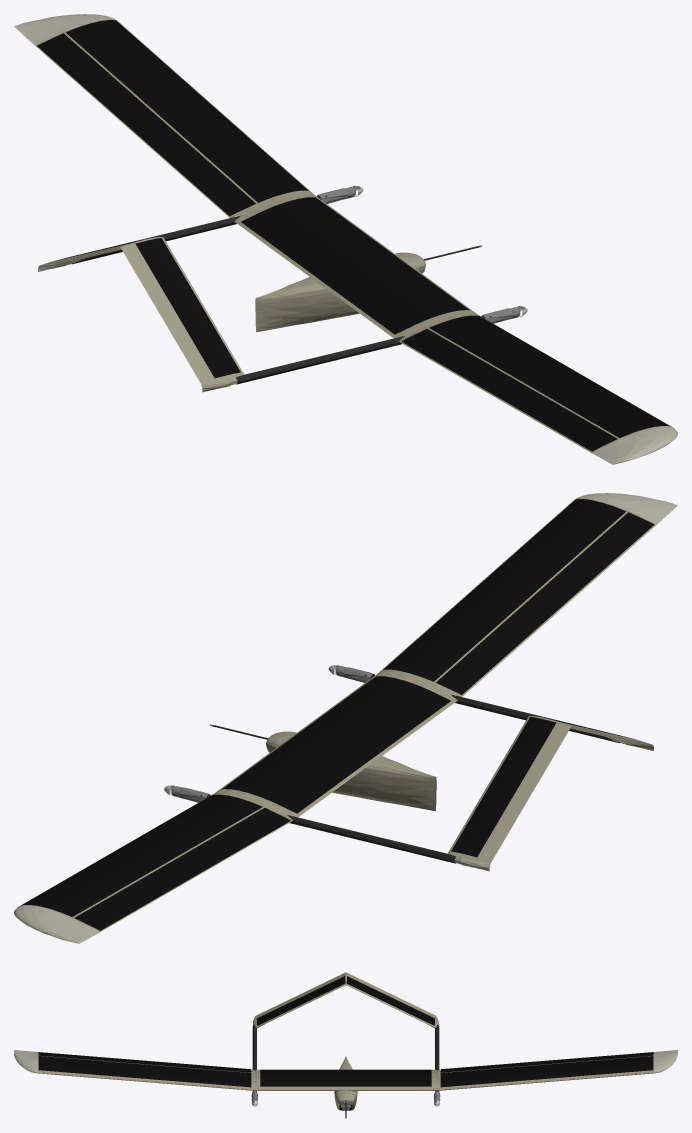
Rendered from senseSoarDummy.dae.
3 renders of one model, top to bottom at view 1: azimuth 30°, elevation 25°; view 2: azimuth 150°, elevation 25°; view 3: azimuth 270°, elevation 25°, orthographic. The views are drawn at different scales.
Visible parts, largest first — view 1: skpB9BB (×17); view 2: skpB9BB (×17); view 3: skpB9BB (×14).
Part boxes in pixels (left/top/right/bottom): skpB9BB (×17): left=14, top=14, right=677, bottom=464; skpB9BB (×17): left=14, top=493, right=677, bottom=943; skpB9BB (×14): left=14, top=972, right=677, bottom=1090.
Bounding box in the file's own units: 42540 × 121946 × 13907.
